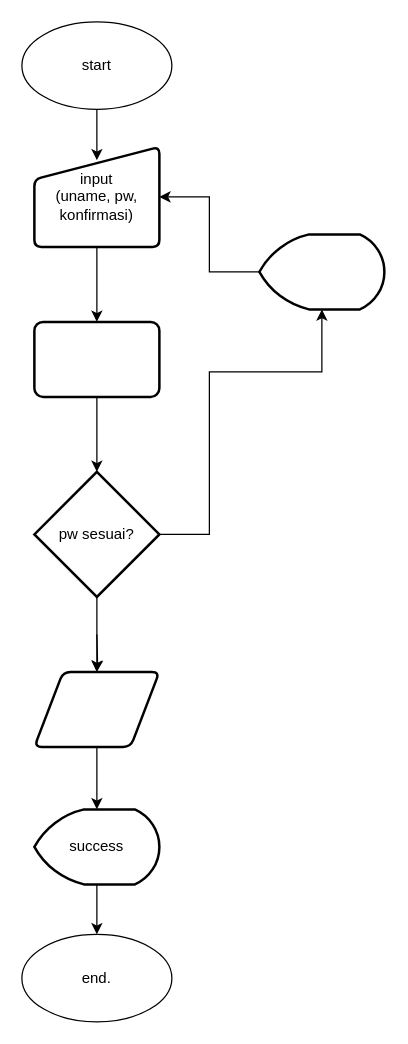
Some shapes in this 408 by 1044 pixel diagram are drawn without their labels. Each missing label, with the centre of its shape:
error: the point at 321,271
lempar ke sistem: the point at 96,709
verifikasi pw: the point at 96,359
